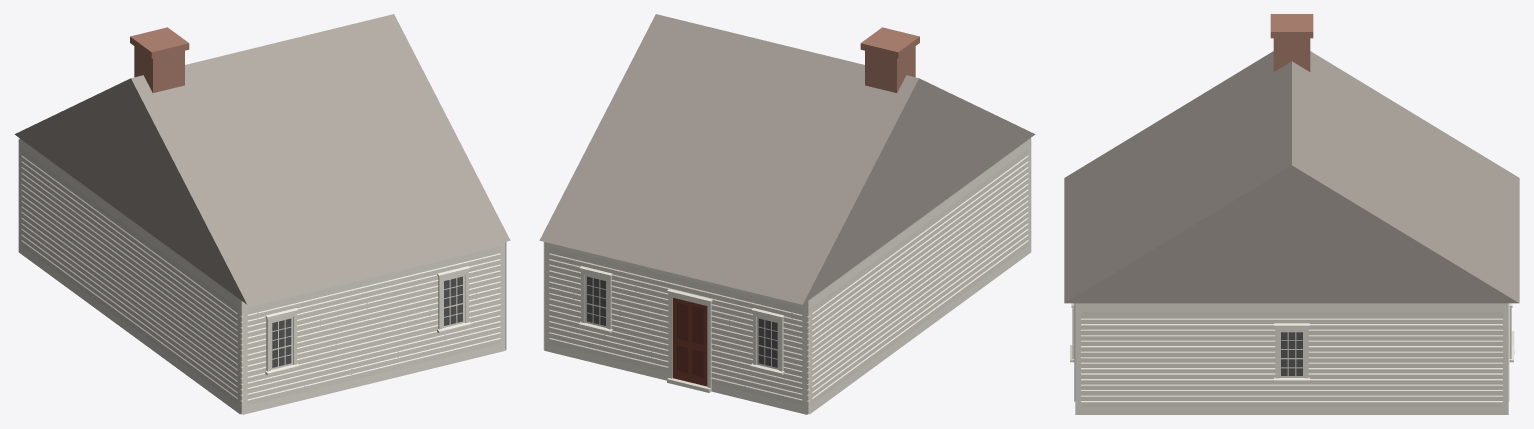
Rendered from recon_1835_blk_south_water_market_d5_01__inferred_1835.glb.
3 views of the same model, side by side, from view 1: azimuth 30°, elevation 25°; view 2: azimuth 150°, elevation 25°; view 3: azimuth 270°, elevation 25° (orthographic). The views are drawn at different scales.
Visible parts, largest first — view 1: recon_1835_blk_south_water_market_d5_01__inferred_1835; view 2: recon_1835_blk_south_water_market_d5_01__inferred_1835; view 3: recon_1835_blk_south_water_market_d5_01__inferred_1835.
Part boxes in pixels (x1,y1,x2,y2): recon_1835_blk_south_water_market_d5_01__inferred_1835: (14,14,510,414); recon_1835_blk_south_water_market_d5_01__inferred_1835: (539,14,1035,414); recon_1835_blk_south_water_market_d5_01__inferred_1835: (1064,14,1519,414).
Bounding box in the file's own units: 7.01 × 7.12 × 10.51.
